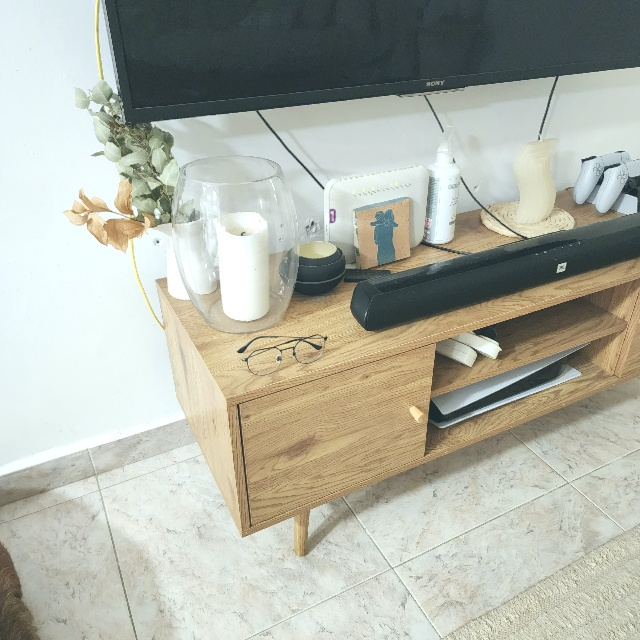glasses: (236, 332, 329, 378)
